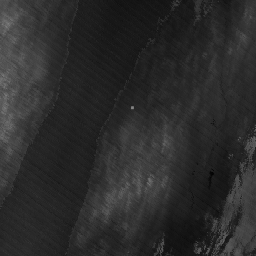Target: (128, 104, 135, 111)
